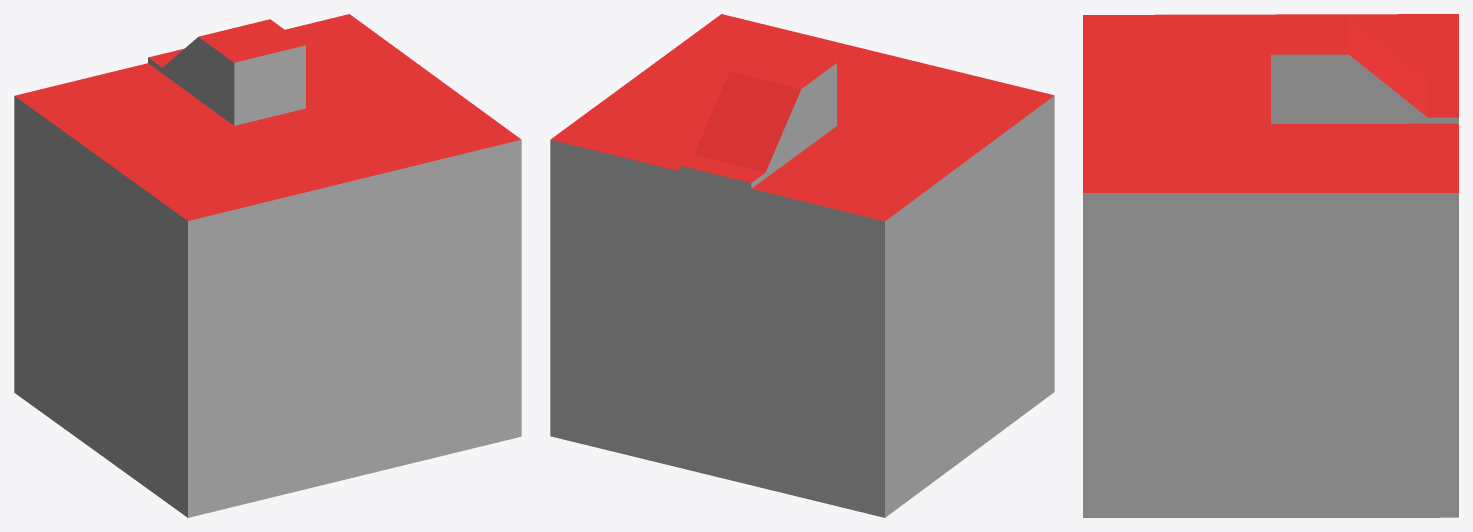
File: DEBY_LOD2_4727864.dae
3 renders of one model, left to right at view 1: azimuth 30°, elevation 25°; view 2: azimuth 150°, elevation 25°; view 3: azimuth 270°, elevation 25°, orthographic. The views are drawn at different scales.
Size of the model in its own units: 14.29 by 12.67 by 14.65.
